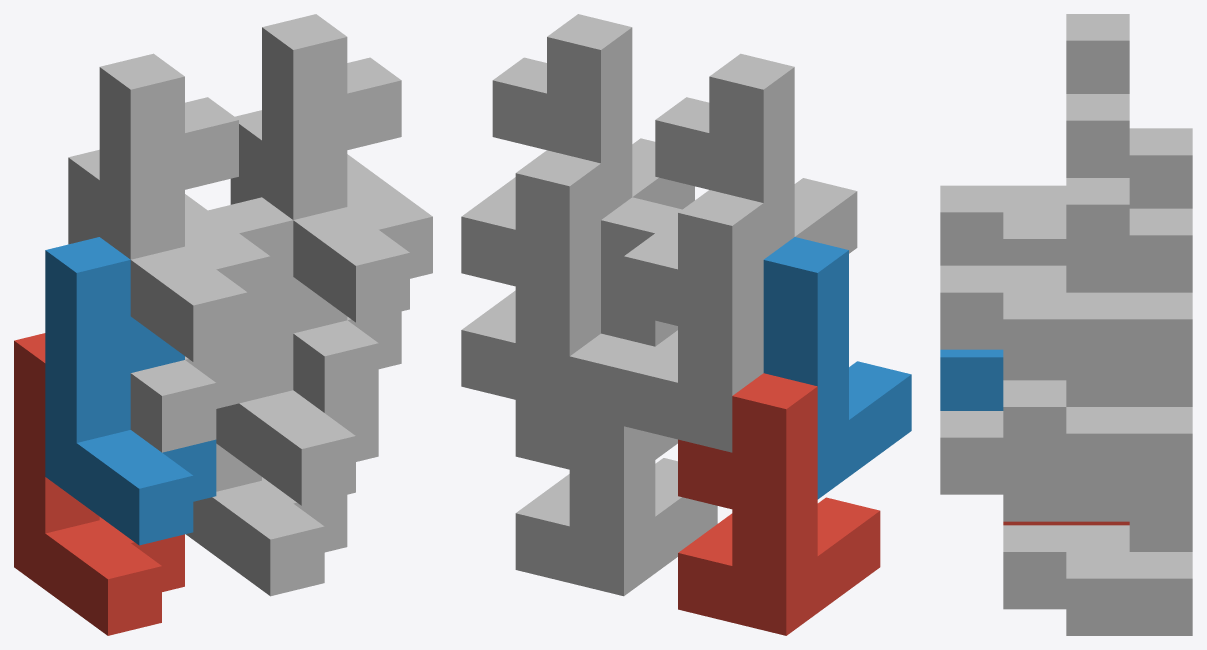
File: tiling.obj
3 views of the same model, side by side, from view 1: azimuth 30°, elevation 25°; view 2: azimuth 150°, elevation 25°; view 3: azimuth 270°, elevation 25° (orthographic).
Visible parts, largest first — view 1: copy_1_domain_4, copy_1_domain_8, copy_1_domain_2, copy_1_domain_6, copy_1_domain_1, copy_1_domain_5, copy_1_domain_3, copy_1_domain_7; view 2: copy_1_domain_1, copy_1_domain_5, copy_1_domain_3, copy_1_domain_7, copy_1_domain_4, copy_1_domain_2, copy_1_domain_8, copy_1_domain_6; view 3: copy_1_domain_8, copy_1_domain_7, copy_1_domain_5, copy_1_domain_4, copy_1_domain_6, copy_1_domain_3, copy_1_domain_2, copy_1_domain_1.
Part boxes in pixels (x1,y1,x2,y2): copy_1_domain_4: (99, 53, 270, 361); copy_1_domain_8: (262, 14, 432, 322); copy_1_domain_2: (45, 237, 216, 545); copy_1_domain_6: (208, 197, 378, 505); copy_1_domain_1: (14, 333, 184, 635); copy_1_domain_5: (186, 443, 347, 596); copy_1_domain_3: (68, 149, 238, 452); copy_1_domain_7: (230, 110, 401, 412); copy_1_domain_1: (678, 373, 880, 635); copy_1_domain_5: (515, 333, 717, 596); copy_1_domain_3: (624, 190, 763, 452); copy_1_domain_7: (461, 150, 600, 412); copy_1_domain_4: (655, 53, 857, 259); copy_1_domain_2: (763, 237, 911, 499); copy_1_domain_8: (492, 14, 694, 219); copy_1_domain_6: (601, 197, 681, 459); copy_1_domain_8: (940, 94, 1129, 376); copy_1_domain_7: (1003, 208, 1192, 490); copy_1_domain_5: (1003, 491, 1192, 635); copy_1_domain_4: (940, 14, 1129, 265); copy_1_domain_6: (940, 376, 1129, 521); copy_1_domain_3: (1003, 128, 1192, 380); copy_1_domain_2: (940, 349, 1003, 410); copy_1_domain_1: (1003, 521, 1129, 525).
Size of the model in its own units: 6 by 9 by 4.
